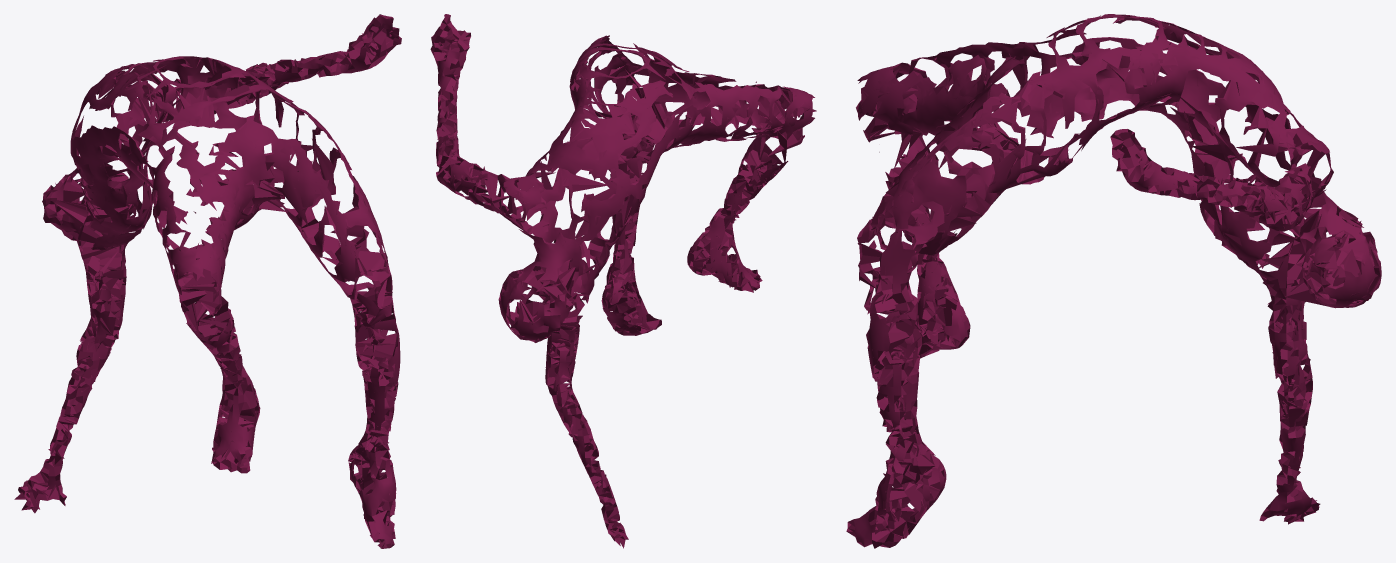
File: mona2.gltf
3 renders of one model, left to right at view 1: azimuth 30°, elevation 25°; view 2: azimuth 150°, elevation 25°; view 3: azimuth 270°, elevation 25°, orthographic. The views are drawn at different scales.
Visible parts, largest first — view 1: andragon_falling.001; view 2: andragon_falling.001; view 3: andragon_falling.001.
Part boxes in pixels (left/top/right/bottom): andragon_falling.001: left=14, top=14, right=401, bottom=548; andragon_falling.001: left=430, top=14, right=816, bottom=548; andragon_falling.001: left=846, top=14, right=1381, bottom=548.
Bounding box in the file's own units: 1.15 × 1.61 × 1.42.
